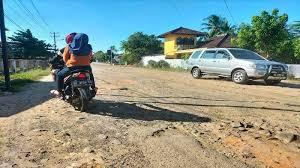Pothole: (230, 111, 300, 168), (40, 127, 124, 168), (147, 112, 221, 155), (97, 72, 134, 100)
